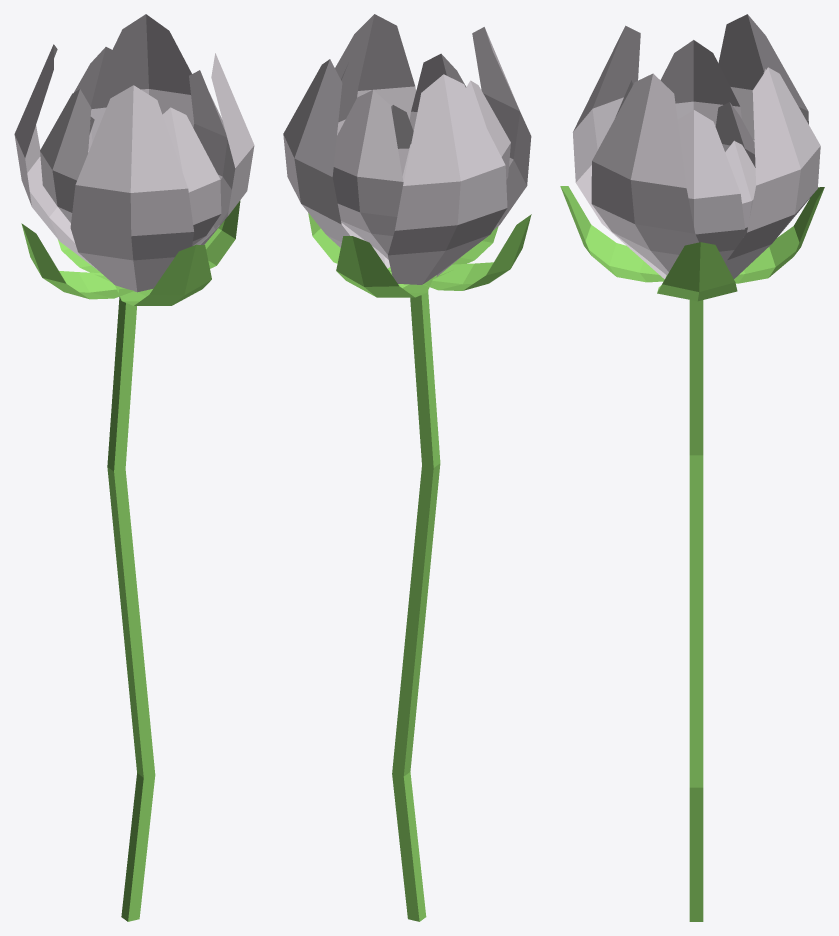
Rendered from FlorBranca.fbx.
3 renders of one model, left to right at view 1: azimuth 30°, elevation 25°; view 2: azimuth 150°, elevation 25°; view 3: azimuth 270°, elevation 25°, orthographic.
Visible parts, largest first — view 1: Cube; view 2: Cube; view 3: Cube.
Part boxes in pixels (x1,y1,x2,y2): Cube: (14,14,254,921); Cube: (283,14,531,921); Cube: (560,14,824,921).
Size of the model in its own units: 252 by 934 by 255.
